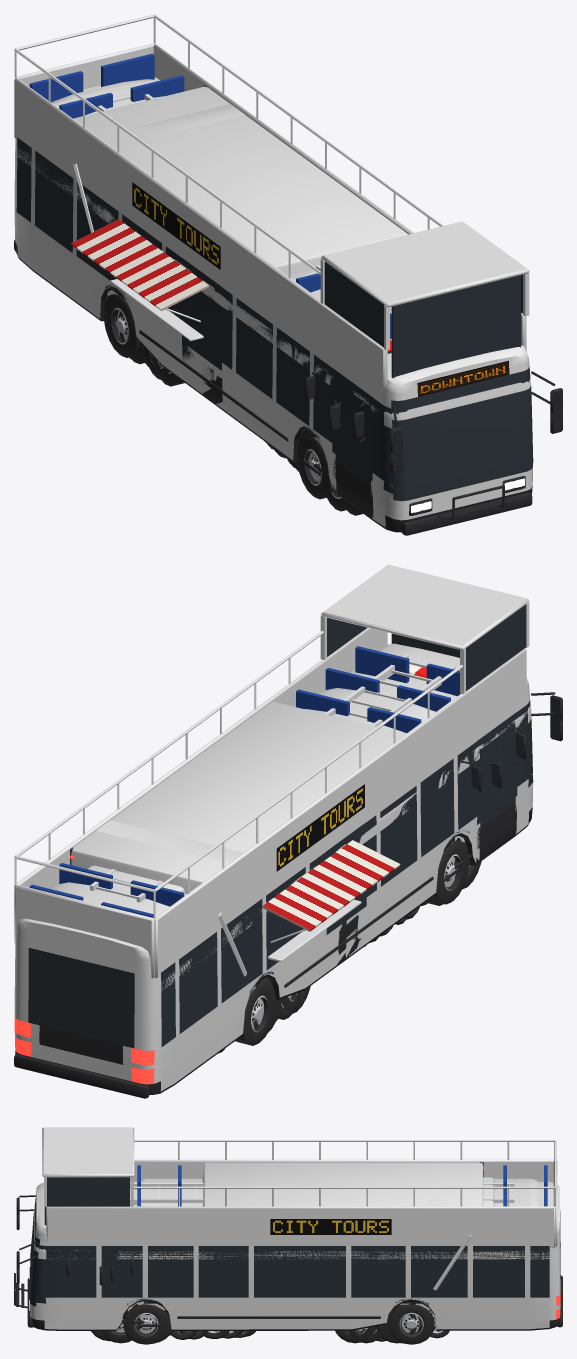
File: vehicles.glb
3 renders of one model, top to bottom at view 1: azimuth 30°, elevation 25°; view 2: azimuth 150°, elevation 25°; view 3: azimuth 270°, elevation 25°, orthographic. The views are drawn at different scales.
Parts seen in each view (by area): view 1: tourbus, bus, truck, foodtruck, garbage, schoolbus, firetruck; view 2: tourbus, bus, truck, foodtruck, schoolbus, garbage, firetruck; view 3: tourbus, bus, truck, schoolbus, firetruck, garbage.
Part boxes in pixels (x1,y1,x2,y2): tourbus: (14,14,562,532); bus: (14,77,562,535); truck: (73,85,407,405); foodtruck: (71,219,298,471); garbage: (73,104,341,485); schoolbus: (51,79,391,515); firetruck: (98,94,391,511); tourbus: (14,564,562,1094); bus: (14,643,562,1098); truck: (70,701,481,1019); foodtruck: (262,840,420,1020); schoolbus: (51,688,481,1033); garbage: (96,761,502,1013); firetruck: (90,654,526,1034); tourbus: (16,1127,560,1344); bus: (14,1177,562,1344); truck: (110,1162,484,1343); schoolbus: (91,1178,537,1343); firetruck: (66,1183,514,1343); garbage: (99,1174,471,1343).
Bounding box in the file's own units: 3.72 × 4.26 × 12.42.
Materials: 10 (2 with a texture image).
